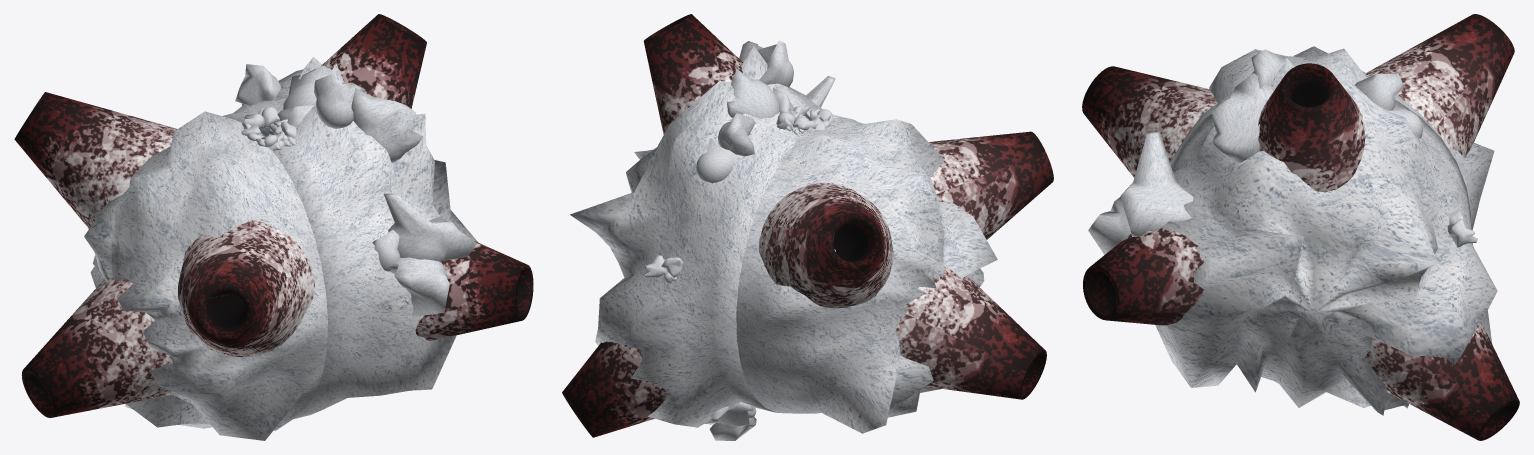
The model's file is planetaHieloFuego.fbx.
The picture shows the model from 3 angles, left to right: view 1: azimuth 30°, elevation 25°; view 2: azimuth 150°, elevation 25°; view 3: azimuth 270°, elevation 25°; orthographic projection. The views are drawn at different scales.
Visible parts, largest first — view 1: Planet_Front, Planet_Back.003, Planet_Back, roca.002, Planet_Back.002, roca; view 2: Planet_Front, Planet_Back, Planet_Back.003, Planet_Back.002, roca.002, roca; view 3: Planet_Back, Planet_Back.002, Planet_Back.003, roca.002, Planet_Front.
Boxes of the visible parts, bbox=[...] form: Planet_Front: bbox=[84, 111, 327, 440]; Planet_Back.003: bbox=[14, 92, 314, 417]; Planet_Back: bbox=[222, 57, 478, 419]; roca.002: bbox=[235, 64, 476, 316]; Planet_Back.002: bbox=[321, 14, 533, 340]; roca: bbox=[283, 65, 331, 109]; Planet_Front: bbox=[736, 117, 997, 433]; Planet_Back: bbox=[570, 46, 850, 427]; Planet_Back.003: bbox=[758, 131, 1053, 399]; Planet_Back.002: bbox=[562, 14, 743, 437]; roca.002: bbox=[643, 40, 835, 440]; roca: bbox=[727, 68, 779, 118]; Planet_Back: bbox=[1155, 58, 1497, 415]; Planet_Back.002: bbox=[1083, 63, 1519, 440]; Planet_Back.003: bbox=[1082, 14, 1514, 177]; roca.002: bbox=[1088, 49, 1477, 408]; Planet_Front: bbox=[1171, 46, 1494, 230].
Size of the model in its own units: 3.06 by 2.67 by 2.77.
